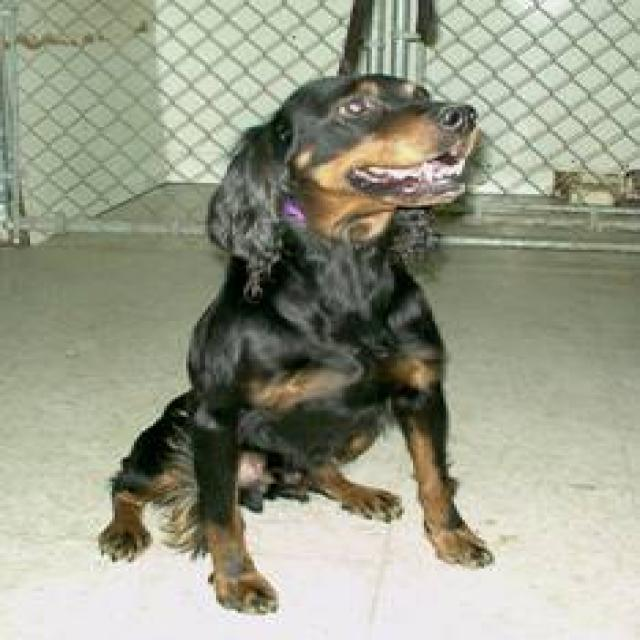dog: (96, 69, 495, 616)
